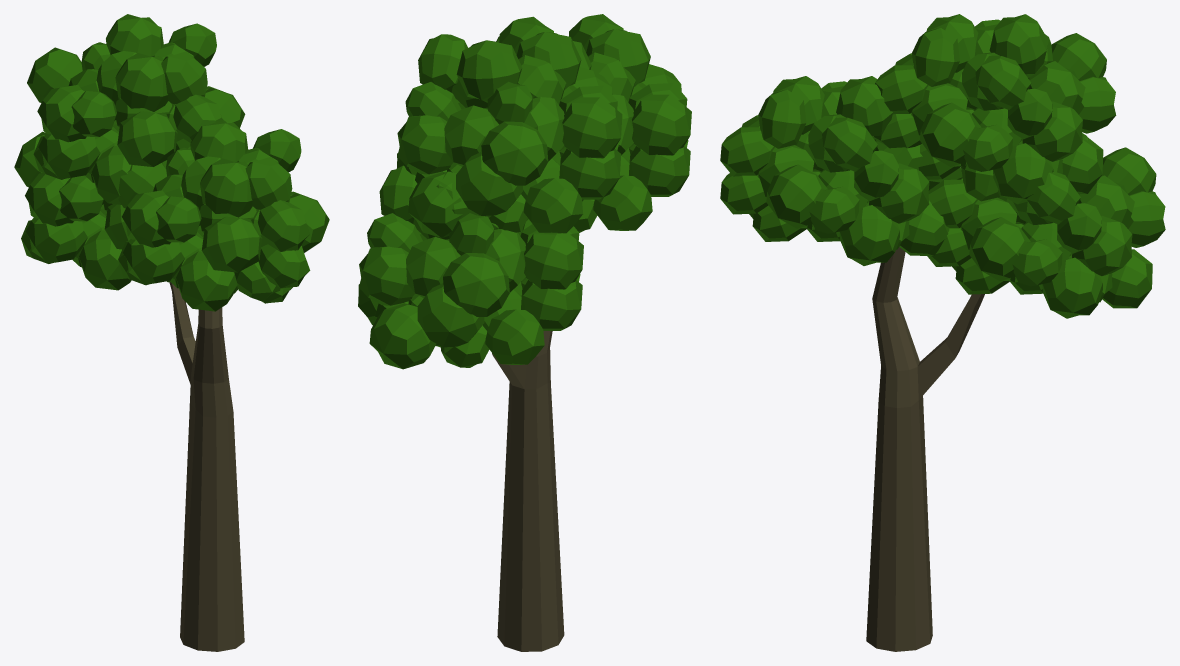
Rendered from tall_tree_fixPP.fbx.
3 views of the same model, side by side, from view 1: azimuth 30°, elevation 25°; view 2: azimuth 150°, elevation 25°; view 3: azimuth 270°, elevation 25° (orthographic). The views are drawn at different scales.
Visible parts, largest first — view 1: polySurface56; view 2: polySurface56; view 3: polySurface56.
Boxes of the visible parts, x1,y1,x2,y2 form: polySurface56: (14, 14, 329, 651); polySurface56: (358, 14, 691, 651); polySurface56: (720, 14, 1165, 651).
Size of the model in its own units: 6.4 by 18.43 by 12.2.
